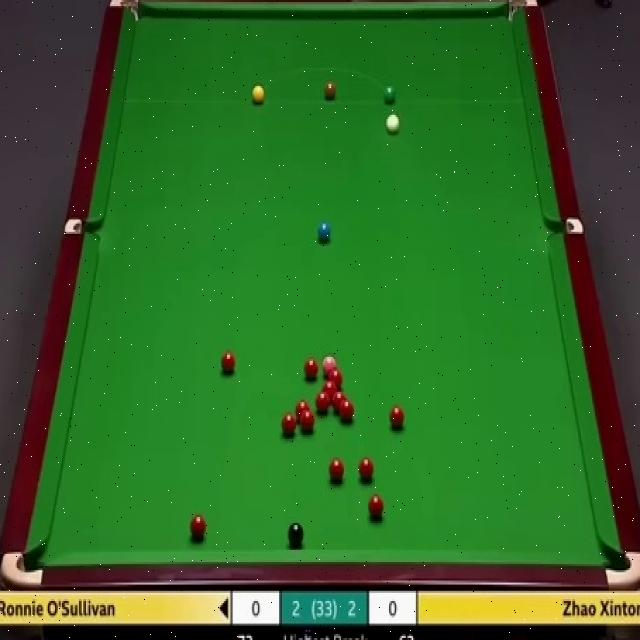black-ball: (288, 519, 304, 548)
blue-ball: (316, 220, 332, 245)
brown-ball: (323, 82, 336, 100)
green-ball: (384, 85, 396, 104)
pink-ball: (322, 354, 338, 372)
red-ball: (367, 494, 385, 521), (190, 514, 208, 540), (303, 356, 320, 382), (390, 406, 406, 429), (340, 398, 355, 422), (358, 458, 374, 480), (329, 459, 345, 481), (301, 409, 316, 432), (221, 350, 235, 374), (314, 392, 331, 411), (282, 413, 297, 434), (294, 398, 310, 416), (332, 392, 347, 409), (321, 380, 339, 394), (328, 369, 345, 382)
white-ball: (384, 112, 400, 136)
yellow-ball: (251, 83, 266, 105)
